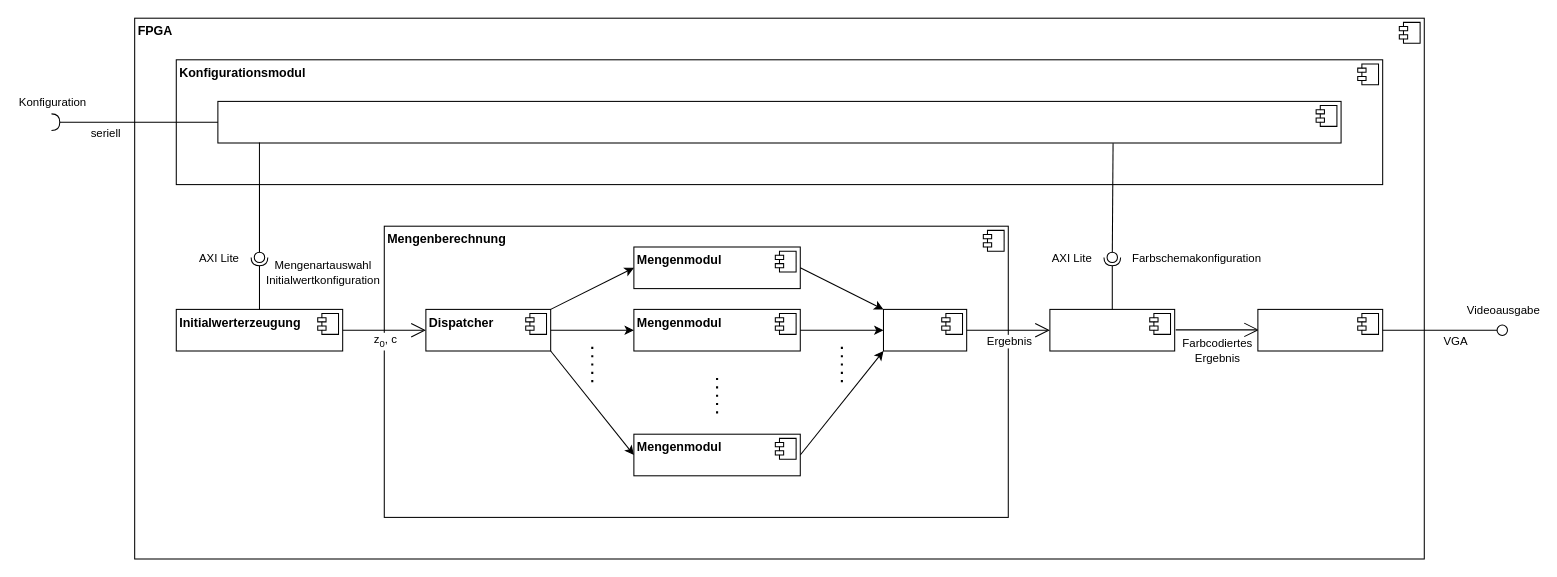
The diagram is 1557 pixels wide and 577 high, and some of its shapes have lost their labels. Here are the shapes that lost their labels. From the top down, the centre of each, then its label:
the point at 779,121: MicroBlaze
the point at 924,329: Arbiter
the point at 1112,329: Farbcodierung
the point at 1320,329: Anzeige
